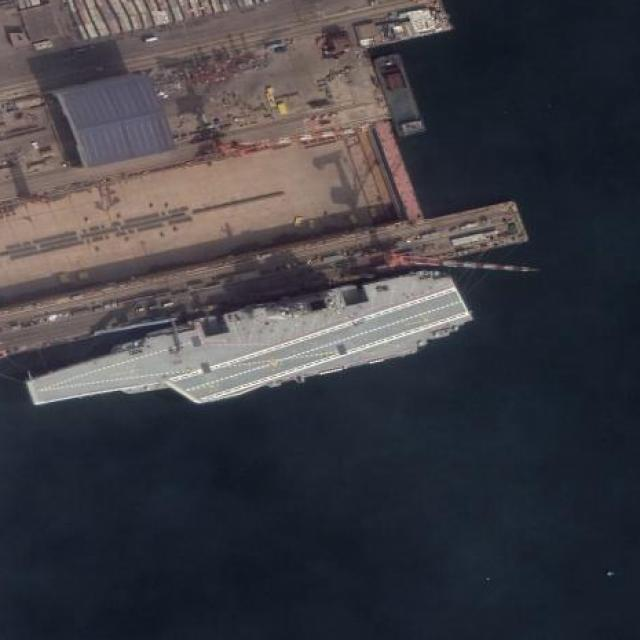Aircraft Carrier: (19, 261, 480, 438)
